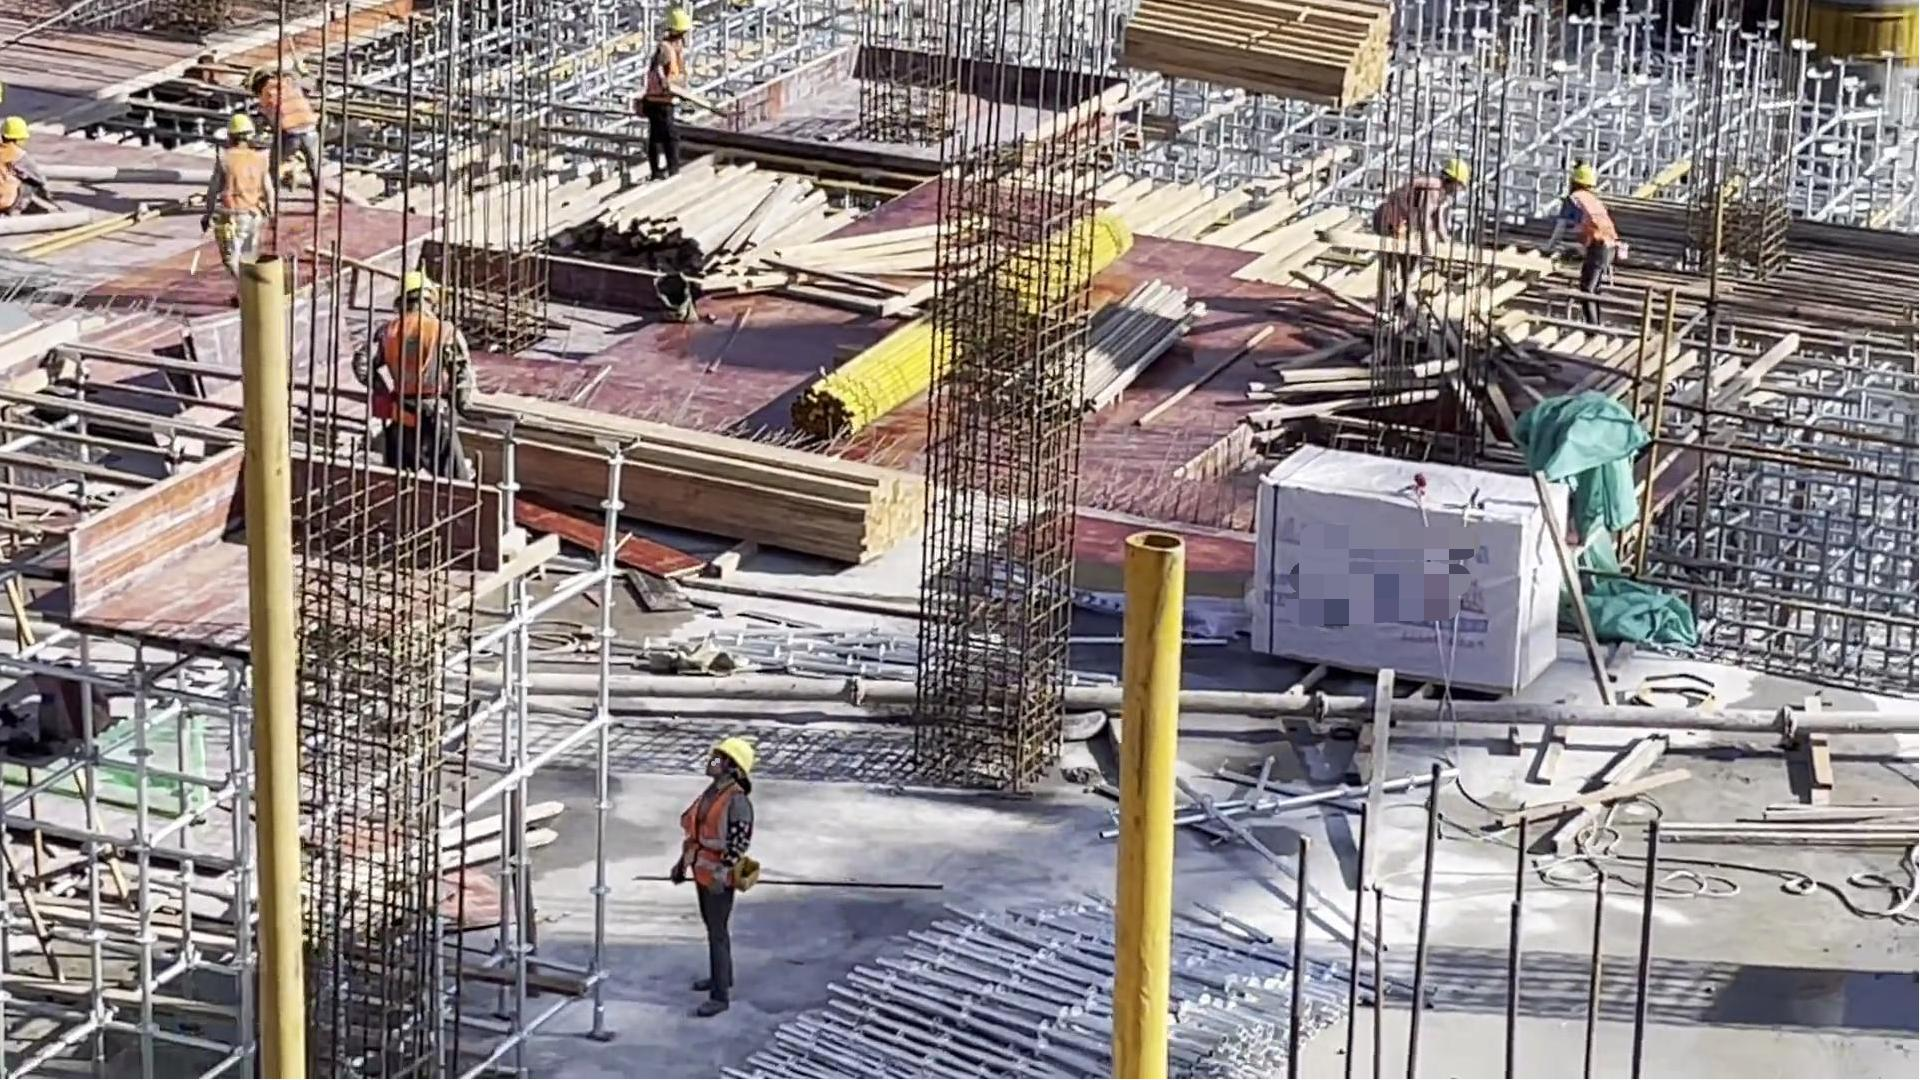helmet: (713, 741, 753, 778), (394, 273, 439, 299), (1442, 157, 1468, 188), (224, 115, 253, 135), (1570, 166, 1598, 186), (2, 118, 28, 137), (668, 10, 691, 31)
person: (351, 277, 475, 474), (678, 735, 751, 1019), (1554, 164, 1615, 331), (208, 115, 271, 270), (246, 70, 321, 185), (647, 8, 690, 181), (1381, 162, 1469, 243), (1, 114, 50, 216)
vest: (367, 324, 455, 422), (678, 785, 738, 887), (215, 157, 271, 229), (259, 80, 315, 145), (1571, 191, 1613, 245), (646, 49, 681, 107), (1, 146, 24, 211)
wood: (508, 399, 925, 566), (548, 184, 832, 296), (1123, 1, 1386, 110)
